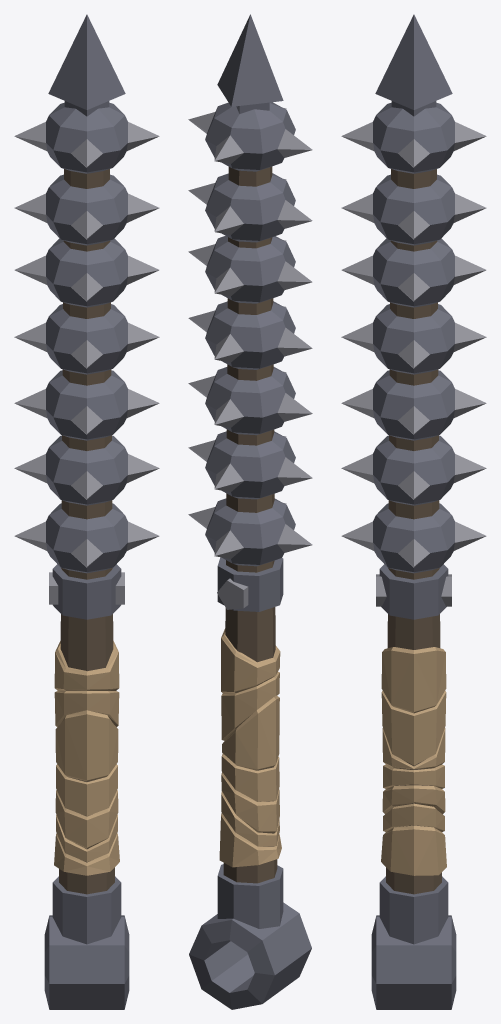
The model's file is hammer_hammer_14.glb.
3 views of the same model, side by side, from view 1: azimuth 90°, elevation 25°; view 2: azimuth 150°, elevation 25°; view 3: azimuth 270°, elevation 25° (orthographic).
Visible parts, largest first — view 1: hammer_14; view 2: hammer_14; view 3: hammer_14.
Part boxes in pixels (x1=…): hammer_14: x1=14, y1=14, x2=159, y2=1009; hammer_14: x1=188, y1=14, x2=312, y2=1009; hammer_14: x1=341, y1=14, x2=486, y2=1009.
Size of the model in its own units: 11.4 by 85.71 by 11.4.
Materials: 1 (1 with a texture image).
